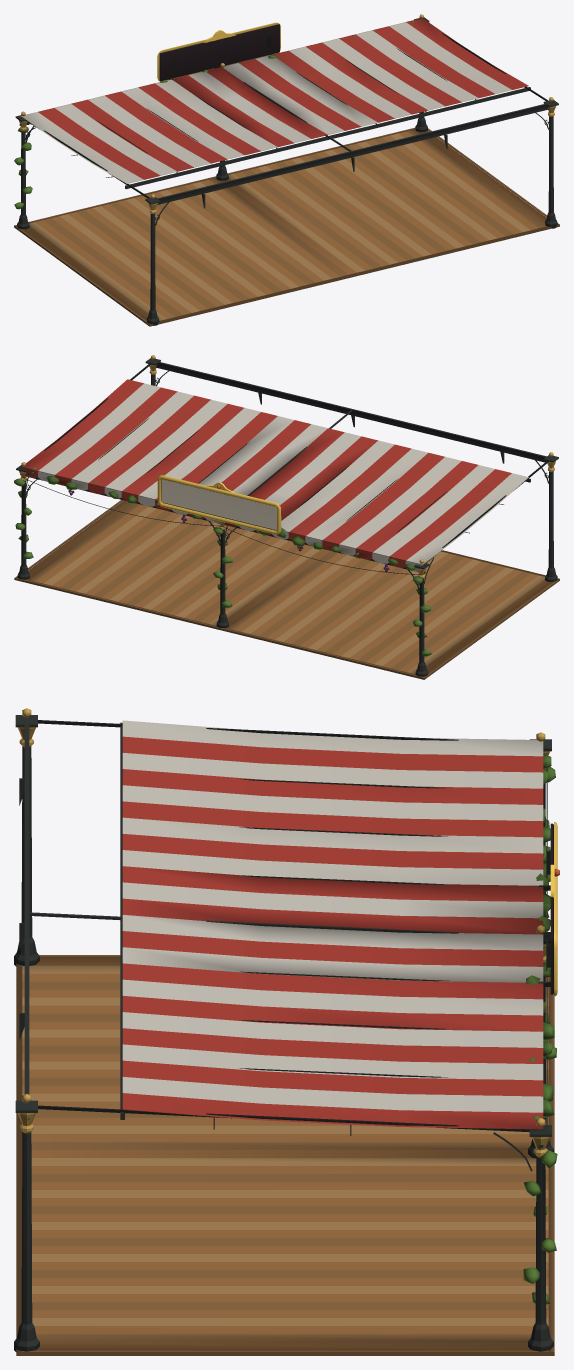
The model's file is pav_cardveranda.glb.
3 views of the same model, one above another, from view 1: azimuth 30°, elevation 25°; view 2: azimuth 150°, elevation 25°; view 3: azimuth 270°, elevation 25° (orthographic). The views are drawn at different scales.
Parts seen in each view (by area): view 1: static_cardveranda; view 2: static_cardveranda; view 3: static_cardveranda.
Part boxes in pixels (left/top/right/bottom): static_cardveranda: left=14, top=14, right=559, bottom=326; static_cardveranda: left=14, top=355, right=559, bottom=679; static_cardveranda: left=14, top=708, right=559, bottom=1355.
Bounding box in the file's own units: 12.52 × 4.24 × 7.18.
